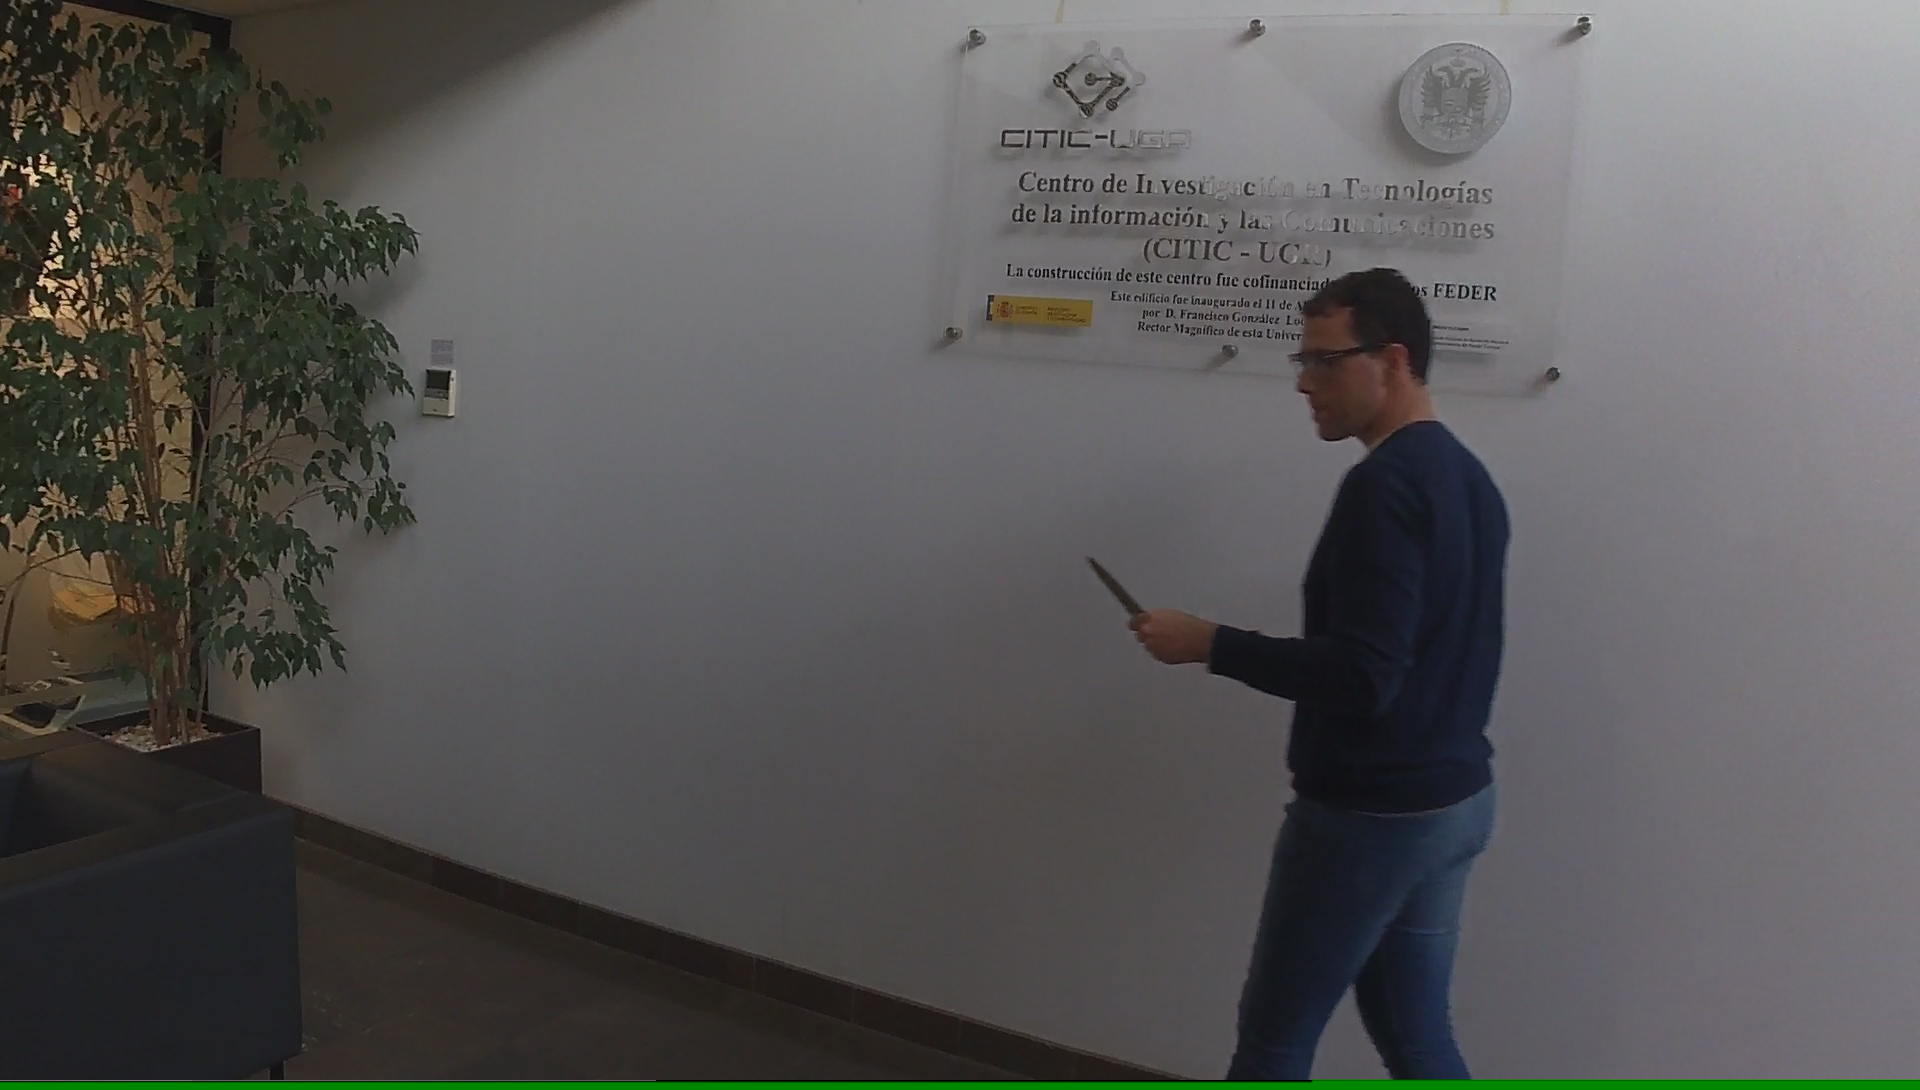knife: (1077, 546, 1184, 670)
